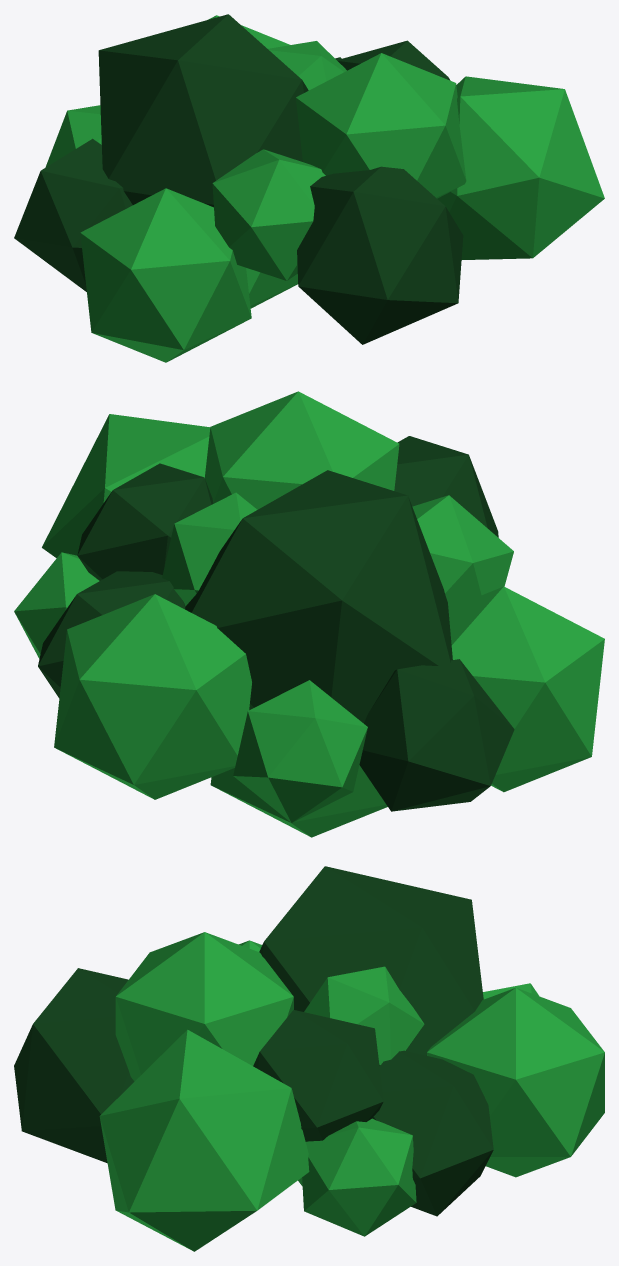
Rendered from tree.glb.
3 renders of one model, top to bottom at view 1: azimuth 30°, elevation 25°; view 2: azimuth 150°, elevation 25°; view 3: azimuth 270°, elevation 25°, orthographic. The views are drawn at different scales.
Visible parts, largest first — view 1: Icosphere.001, Icosphere.005, Icosphere.002, Icosphere, Icosphere.008, Icosphere.009, Icosphere.014, Icosphere.007, Icosphere.004, Icosphere.010, Icosphere.012; view 2: Icosphere.001, Icosphere.003, Icosphere, Icosphere.014, Icosphere.008, Icosphere.004, Icosphere.010, Icosphere.002, Icosphere.009, Icosphere.005, Icosphere.007, Icosphere.006 (+2 smaller); view 3: Icosphere.002, Icosphere.001, Icosphere.003, Icosphere.008, Icosphere.005, Icosphere.006, Icosphere.010, Icosphere.013, Icosphere.007.
Boxes of the visible parts, x1,y1,x2,y2 form: Icosphere.001: (98,14,308,207); Icosphere.005: (297,166,463,344); Icosphere.002: (437,76,604,259); Icosphere: (80,188,251,362); Icosphere.008: (295,53,466,198); Icosphere.009: (212,149,325,280); Icosphere.014: (14,138,132,291); Icosphere.007: (268,41,346,90); Icosphere.004: (45,105,101,167); Icosphere.010: (337,40,450,80); Icosphere.012: (246,268,297,308); Icosphere.001: (185,470,452,723); Icosphere.003: (54,594,251,799); Icosphere: (448,586,604,792); Icosphere.014: (359,659,514,811); Icosphere.008: (205,391,399,509); Icosphere.004: (233,680,367,822); Icosphere.010: (77,463,213,580); Icosphere.002: (42,414,210,558); Icosphere.009: (412,495,513,608); Icosphere.005: (394,436,498,537); Icosphere.007: (162,492,257,606); Icosphere.006: (38,571,185,697); Icosphere.002: (99,1029,309,1251); Icosphere.001: (259,866,483,1055); Icosphere.003: (427,988,604,1177); Icosphere.008: (115,932,293,1081); Icosphere.005: (14,968,134,1163); Icosphere.006: (372,1050,493,1216); Icosphere.010: (253,1009,383,1141); Icosphere.013: (302,1118,416,1236); Icosphere.007: (304,966,424,1065).
Size of the model in its own units: 5.55 by 3.48 by 5.64.
